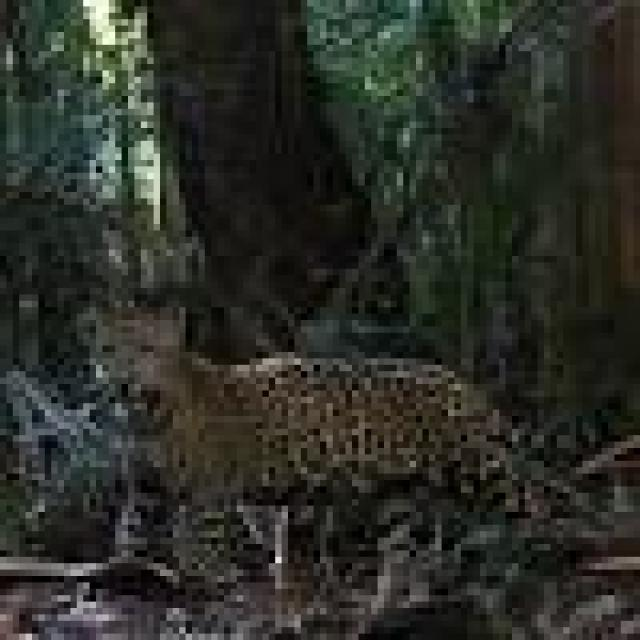Jaguar: (51, 282, 570, 544)
